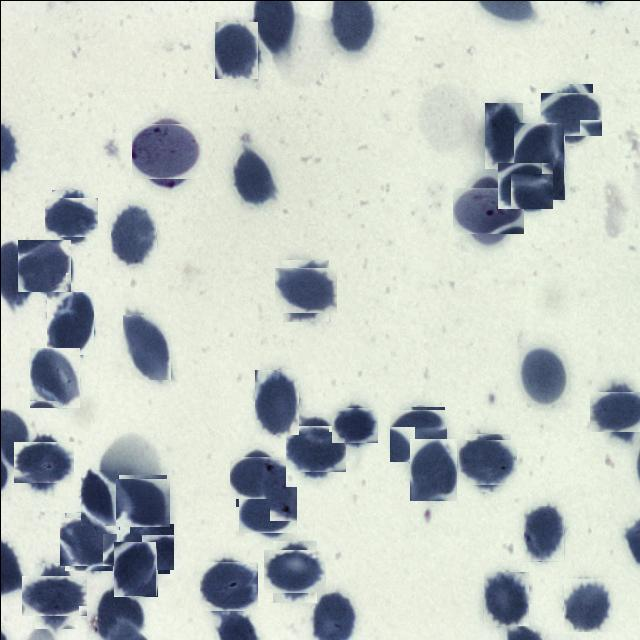red blood cell: (513, 122, 564, 199), (122, 312, 170, 378), (518, 344, 568, 407), (29, 347, 80, 408), (390, 408, 446, 462), (46, 291, 93, 354), (200, 559, 254, 613), (288, 420, 342, 474), (278, 263, 332, 317), (409, 438, 456, 500), (27, 568, 80, 622), (62, 514, 115, 568), (254, 369, 298, 434), (110, 204, 156, 266), (268, 544, 320, 598), (18, 238, 70, 292), (544, 87, 596, 140), (461, 436, 513, 488), (241, 482, 293, 534), (116, 476, 168, 528), (214, 21, 258, 79), (484, 101, 522, 168), (563, 576, 610, 630), (18, 437, 68, 487), (120, 521, 170, 571), (232, 452, 282, 502), (500, 160, 550, 210), (231, 148, 274, 205), (483, 571, 528, 625), (112, 541, 156, 596), (594, 386, 640, 437), (523, 505, 564, 561), (47, 192, 94, 240), (80, 469, 118, 526), (334, 404, 374, 446)
ring: (135, 119, 198, 182), (458, 180, 518, 240)
